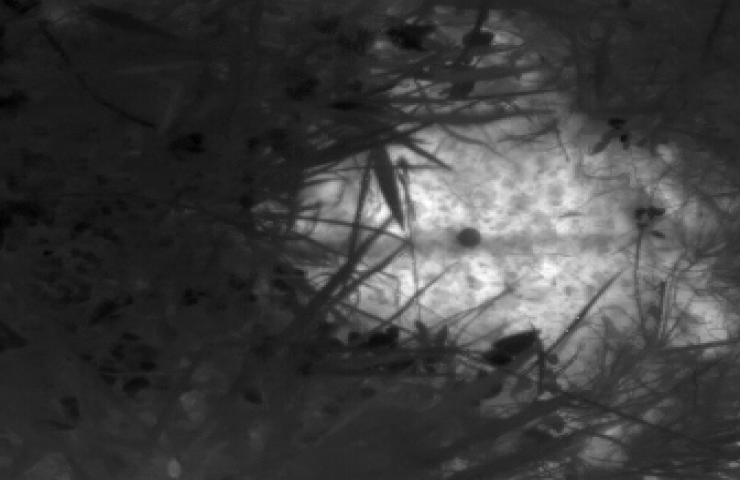landmines: (285, 67, 740, 388)
